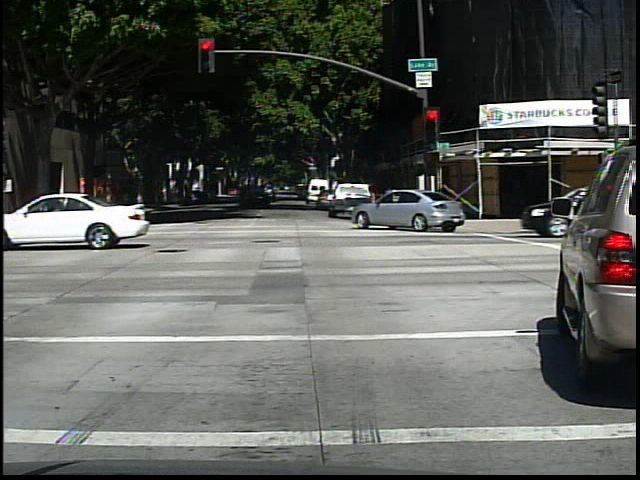person: (92, 186, 108, 221)
